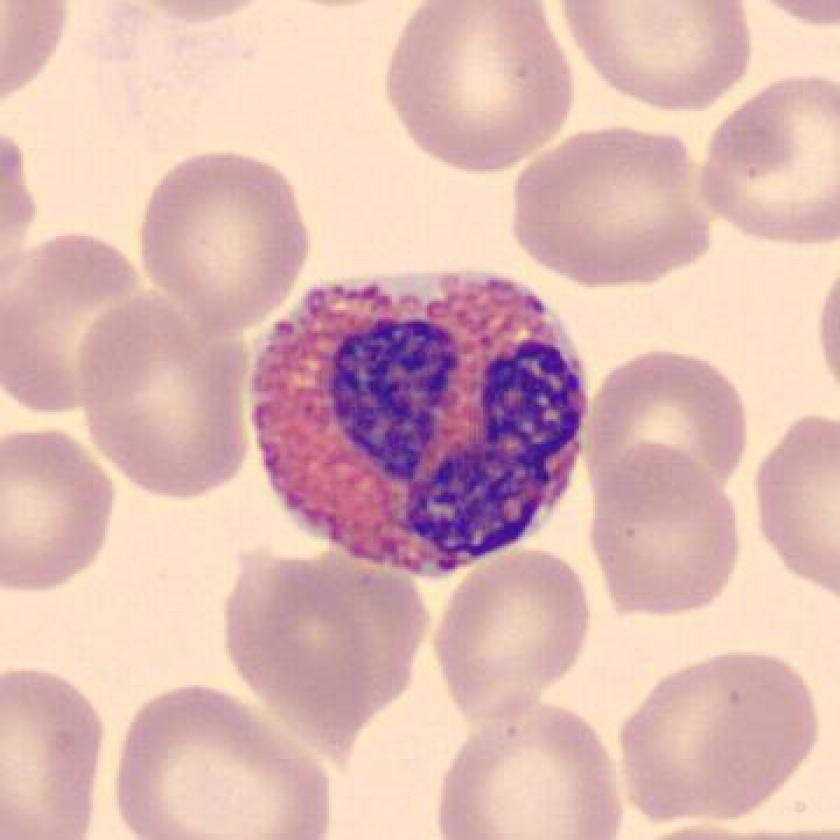eosinophil: (232, 253, 610, 589)
